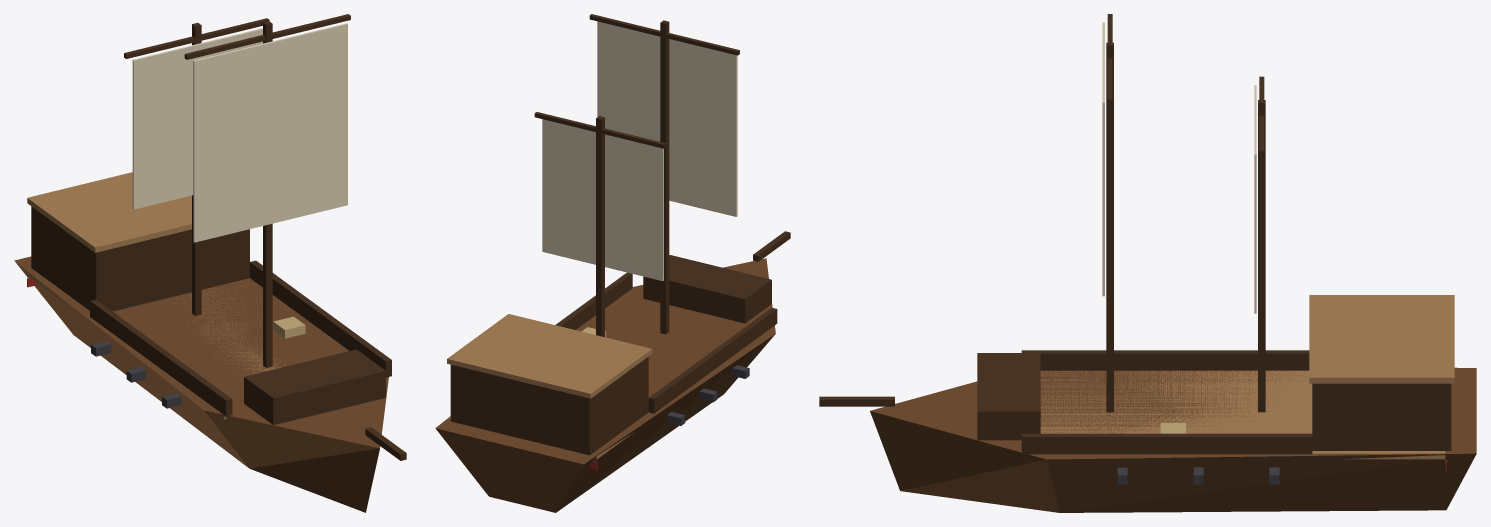
File: med-navio.gltf
3 renders of one model, left to right at view 1: azimuth 30°, elevation 25°; view 2: azimuth 150°, elevation 25°; view 3: azimuth 270°, elevation 25°, orthographic. The views are drawn at different scales.
Visible parts, largest first — view 1: med-navio; view 2: med-navio; view 3: med-navio.
Part boxes in pixels (left/top/right/bottom): med-navio: left=14, top=14, right=406, bottom=512; med-navio: left=435, top=14, right=790, bottom=512; med-navio: left=819, top=14, right=1476, bottom=512.
Size of the model in its own units: 3.8 by 7.8 by 10.4.
